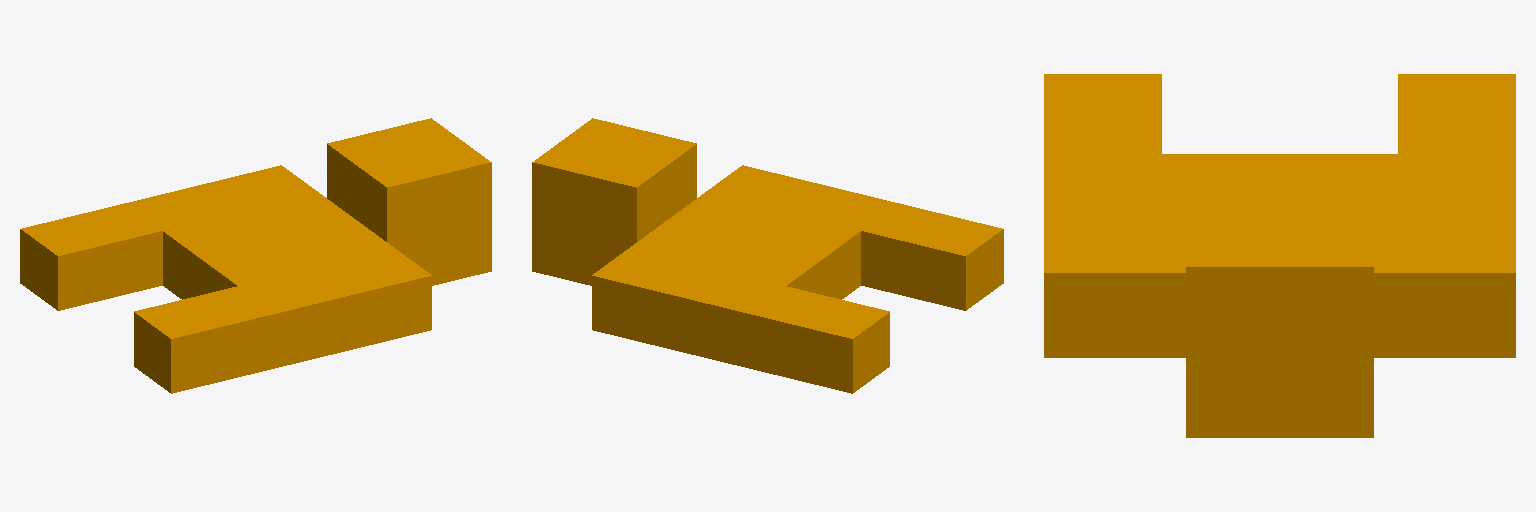
robot.urdf — your_robot_name:
<robot name="your_robot_name">
    <link name="base_link">
        <visual>
            <origin rpy="0 0 0" xyz="0 0 0" />
            <geometry>
                <mesh filename="stl/assemble_p2.stl" scale="0.001 0.001 0.001" />
            </geometry>
        </visual>
        <!-- <collision>
            <origin rpy="0 0 0" xyz="0 0 0" />
            <geometry>
                <mesh filename="stl/assemble_p2.stl" scale="0.001 0.001 0.001" />
            </geometry>
        </collision> -->
        <inertial>
            <origin rpy="0 0 0" xyz="0 0 0" />
            <mass value="0.5" />
            <inertia ixx="1" ixy="0" ixz="0" iyy="1" iyz="0" izz="1" />
        </inertial>
    </link>
</robot>

--- What the picture shows (computed from the rendered views, not written in the file) ---
3 views of the same robot in one strip: view 1: azimuth 30°, elevation 25°; view 2: azimuth 150°, elevation 25°; view 3: azimuth 270°, elevation 25° (orthographic).
Model your_robot_name with 1 links and 0 joints (none), rooted at base_link, posed all joints at 0.
Visible links, largest first — view 1: base_link; view 2: base_link; view 3: base_link.
Link boxes in pixels (x1,y1,x2,y2): base_link: [20, 118, 491, 393]; base_link: [532, 118, 1003, 393]; base_link: [1044, 74, 1515, 437].
Bounding box of the posed robot: 0.14 × 0.1 × 0.04 m (x, y, z).
Meshes: 1 distinct files referenced, 1 mesh visuals loaded (1 binary STL).